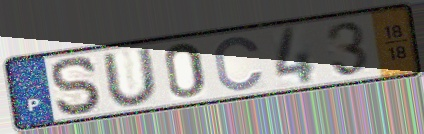0: (162, 40, 210, 101)
3: (324, 21, 372, 77)
4: (271, 24, 320, 87)
C: (212, 34, 267, 93)
S: (49, 54, 106, 117)
U: (99, 45, 162, 108)
